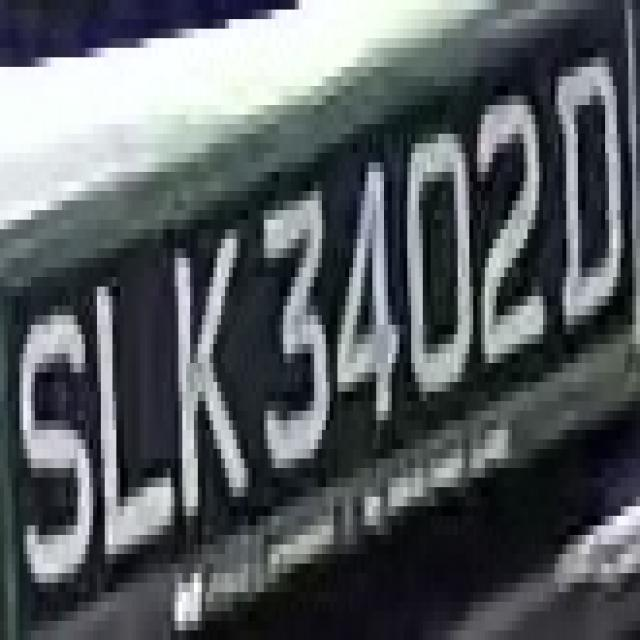0: (403, 86, 485, 420)
2: (454, 67, 551, 401)
3: (252, 182, 330, 506)
4: (314, 115, 404, 478)
D: (551, 48, 628, 363)
K: (163, 210, 260, 564)
L: (93, 258, 179, 573)
S: (12, 296, 93, 621)
